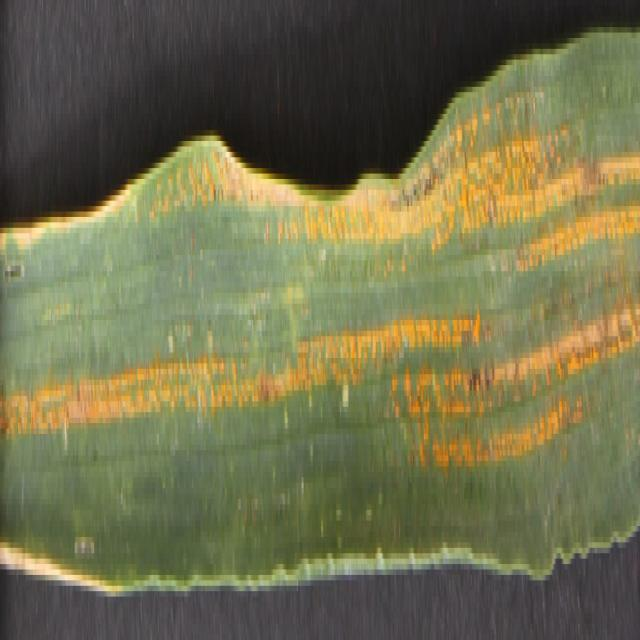leaf rust: (3, 97, 640, 553)
